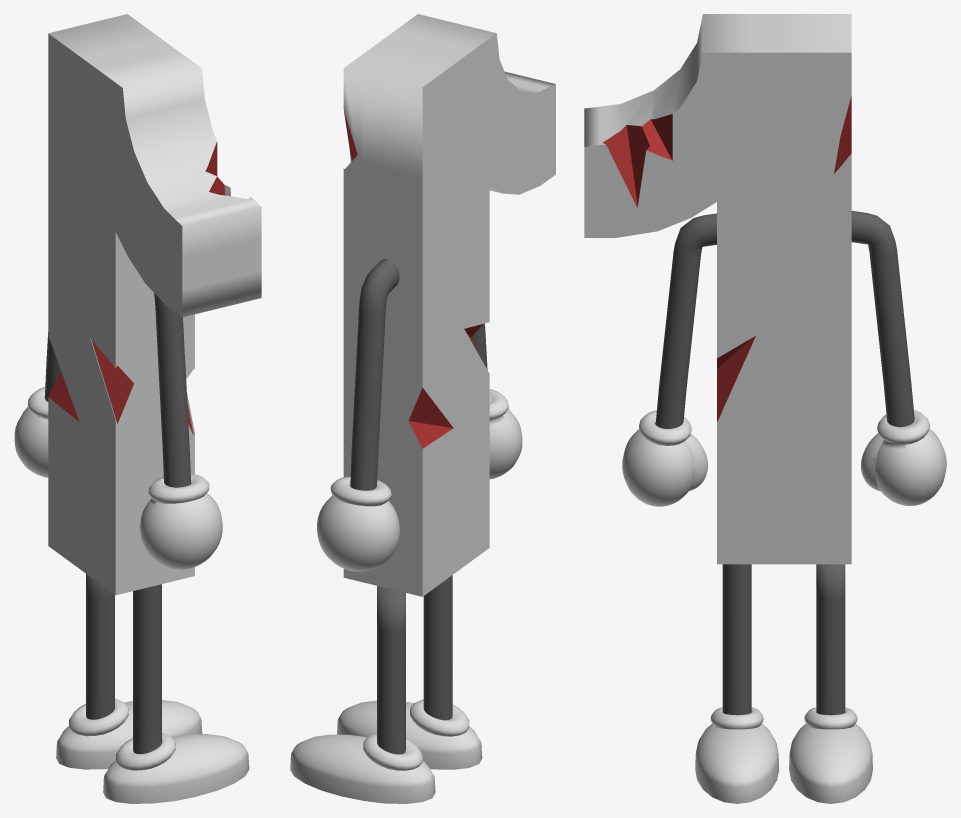
Rendered from OneDigit_Corrupt_Animated.fbx.
3 views of the same model, side by side, from view 1: azimuth 30°, elevation 25°; view 2: azimuth 150°, elevation 25°; view 3: azimuth 270°, elevation 25° (orthographic).
Parts seen in each view (by area): view 1: CharacterObject6; view 2: CharacterObject6; view 3: CharacterObject6.
Part boxes in pixels (x1,y1,x2,y2): CharacterObject6: [14, 14, 261, 803]; CharacterObject6: [290, 14, 555, 803]; CharacterObject6: [584, 14, 946, 803].
Size of the model in its own units: 2.4 by 11.75 by 5.33.
